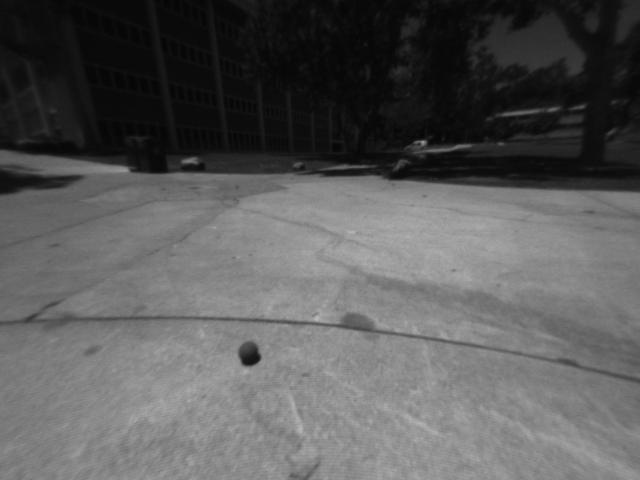dogtoy: (228, 336, 273, 371)
